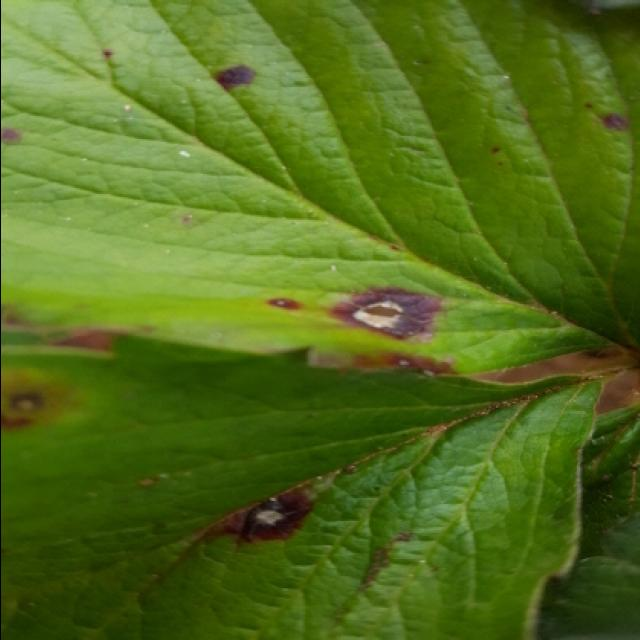Leaf Spot: (2, 0, 640, 376), (2, 334, 609, 638)
